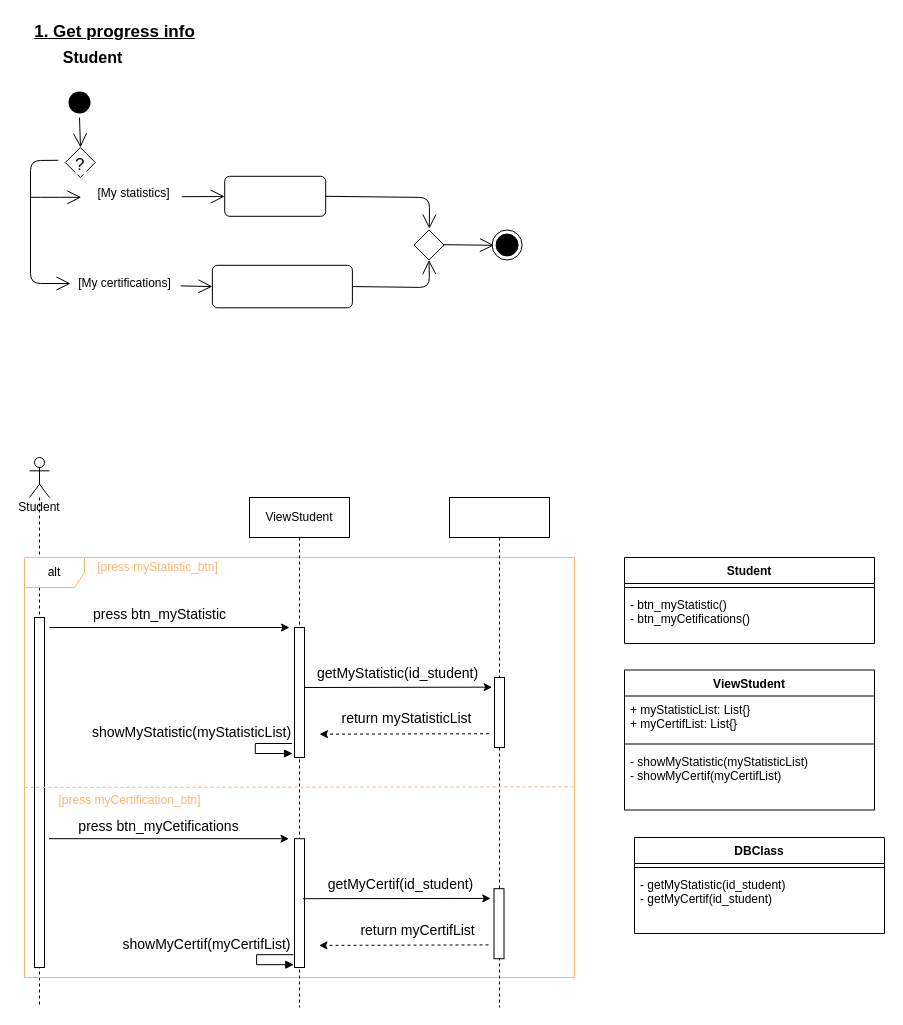
This 903x1025 diagram has some shape labels left out. The centre of each missing label's shape, as x and y in pixels:
Database: point (499, 752)
Press tab "My certificates": point (281, 286)
Press tab "My statistic": point (275, 195)
